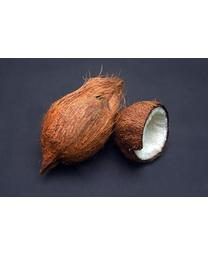coconut: (39, 73, 126, 175), (115, 100, 175, 162)
